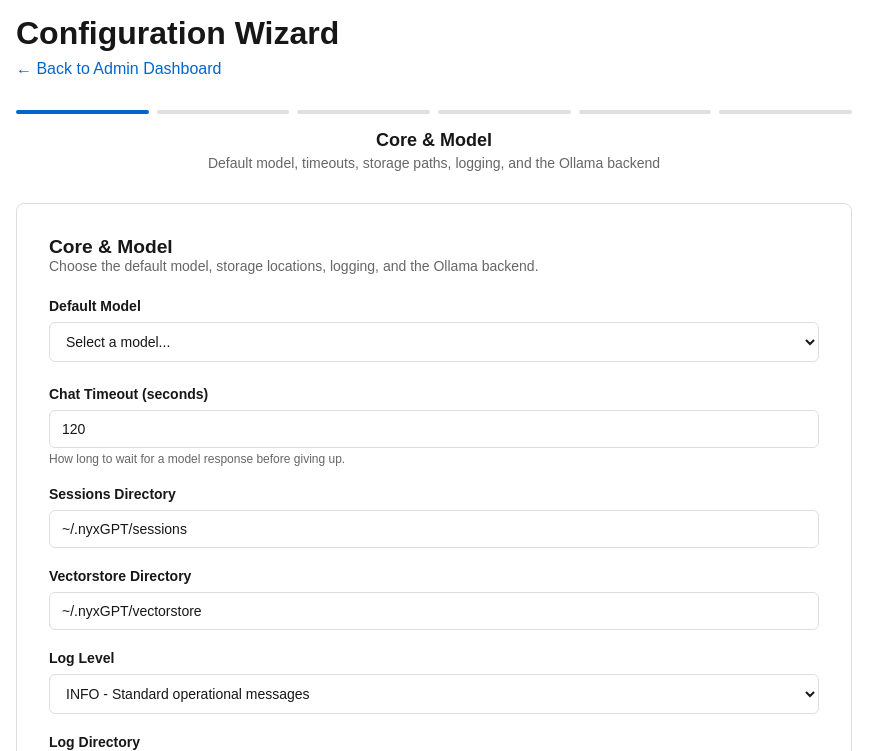
Test: AdminPage Component › navigates to the RAG Configuration step
The width and height of the screenshot is (869, 751).
Select "fixture-chat:8b" in the dropdown labelled "Default Model" at (434, 342), box [49,322,819,362]
(page scrolled)
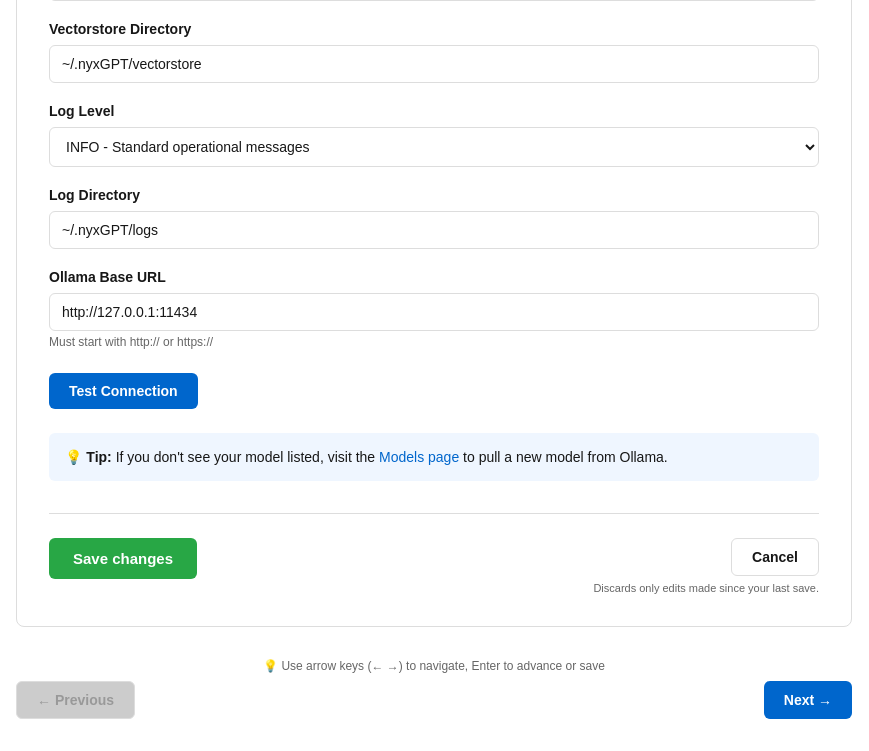
Click the button "Next →" at (808, 700), box [764,681,852,719]
(page scrolled)
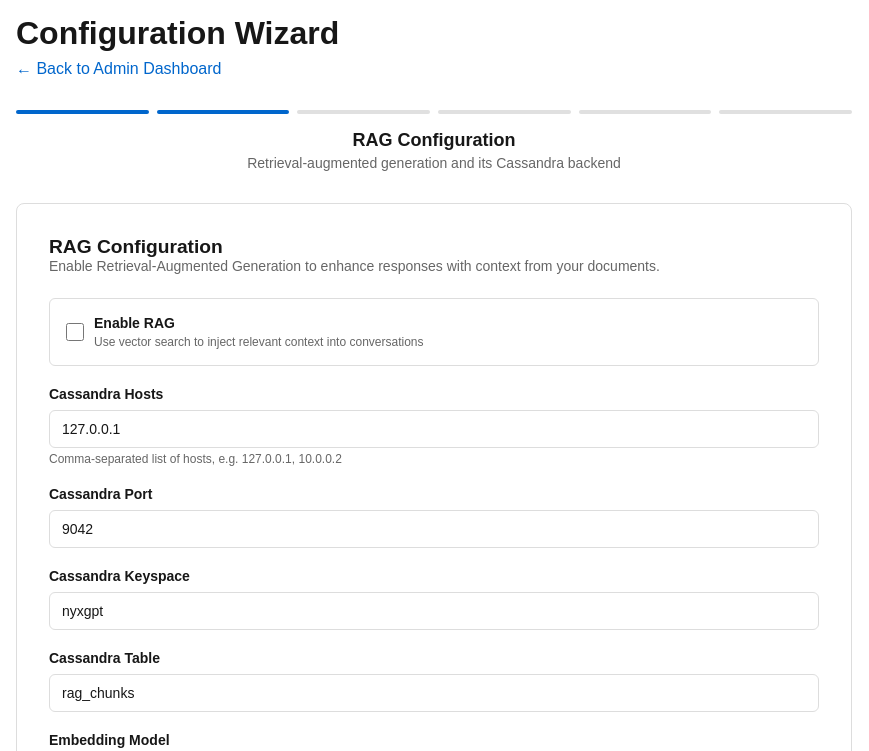
Check: the heading "RAG Configuration" is shown, box [49,236,223,257]
